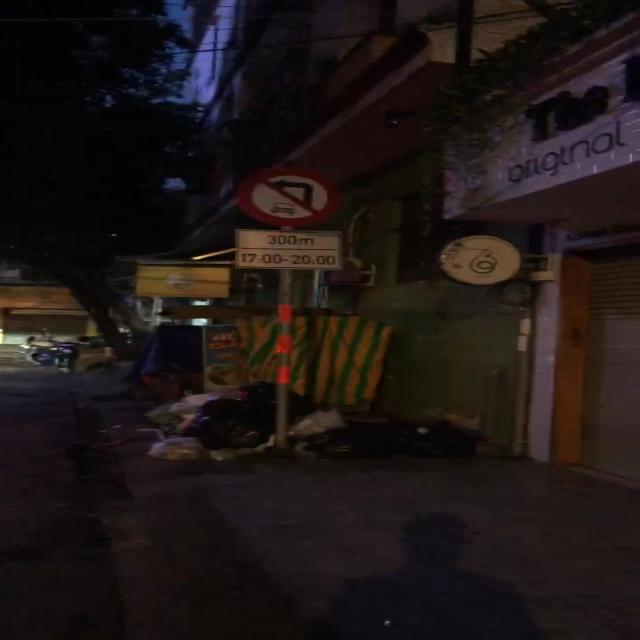Bien bao cam xe o to re trai: (227, 165, 345, 228)
